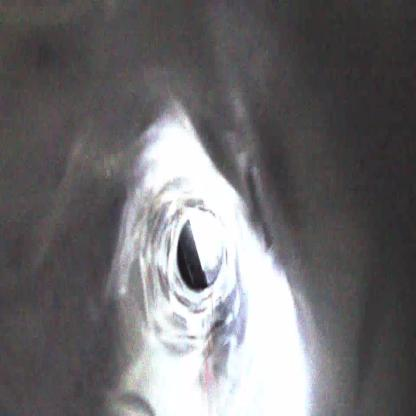Crack: (134, 184, 257, 354)
